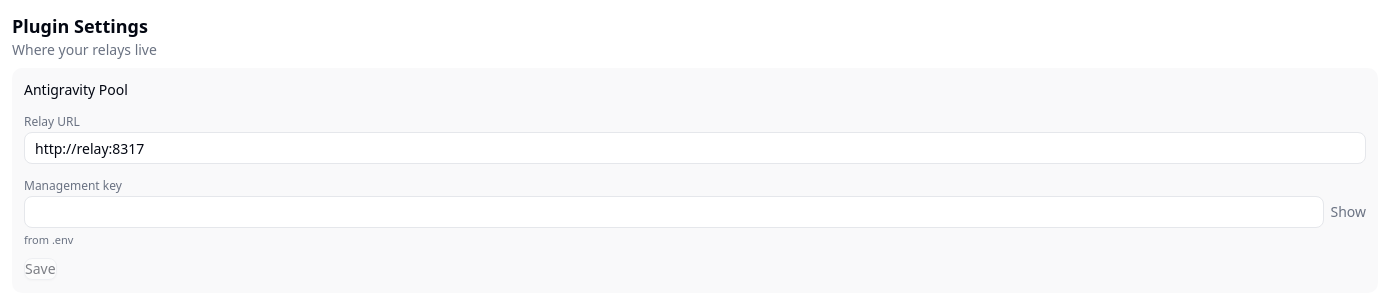
PluginSettingsSection › loads stored values, masks secrets, and saves trimmed values
The image size is (1378, 297).
Expected: the field labelled "Relay URL" holds "http://relay:8317", [24,132,1366,164]
Expected: the text "from .env" is shown, [24,232,74,247]
Type "  secret-value " into the password field labelled "Management key" at (674,212), box [24,196,1324,228]
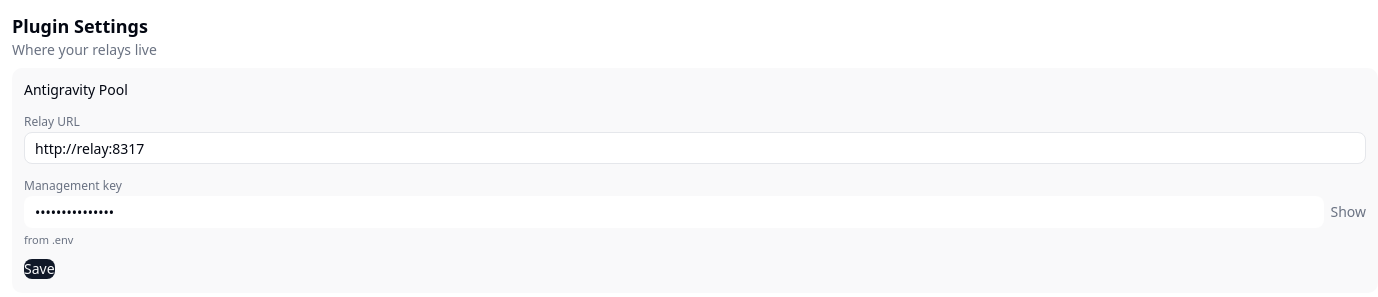
Expected: the button "Save" is enabled, [24,258,55,278]
Click the button "Show" at (1348,212), box [1330,202,1366,222]
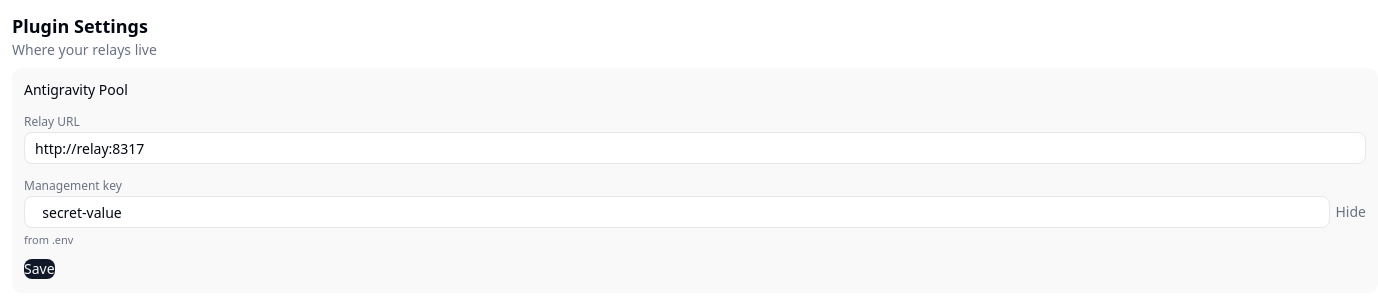
Click the button "Save" at (39,268), box [24,258,55,278]
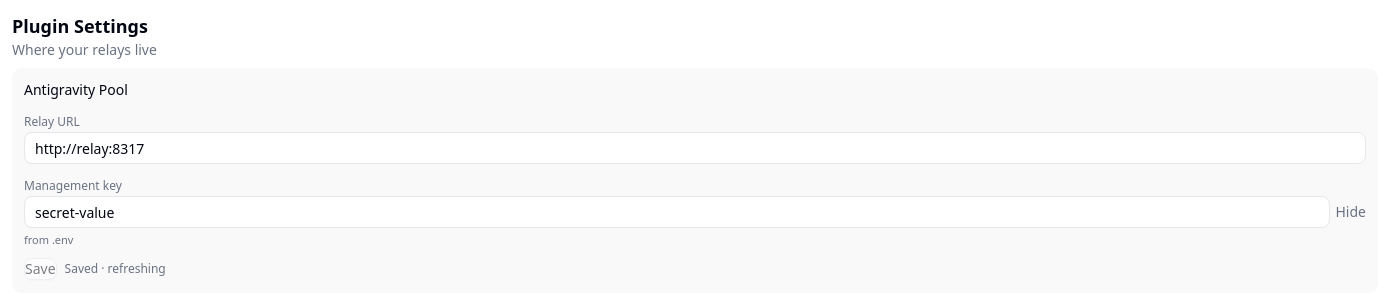
Expected: the text "Saved · refreshing" is shown, [65,260,166,276]
